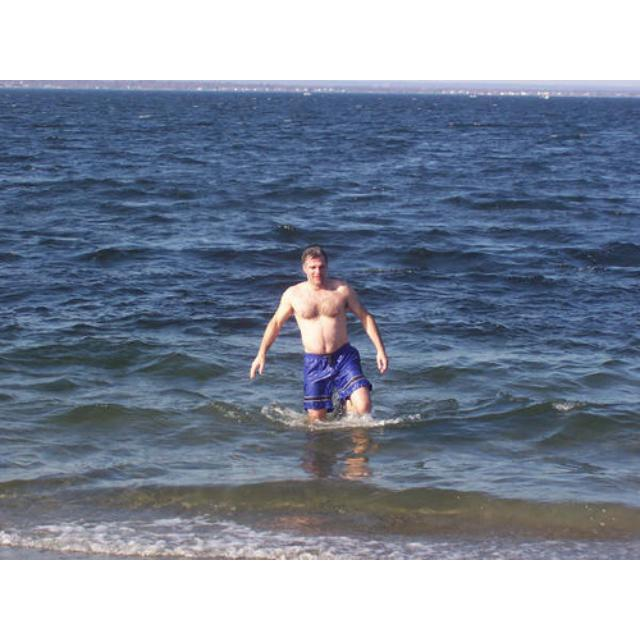human: (250, 244, 390, 421)
